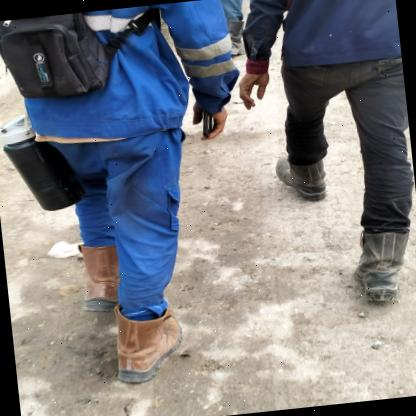bota: (102, 300, 189, 386), (344, 223, 416, 311), (72, 238, 122, 314), (270, 149, 330, 206)
